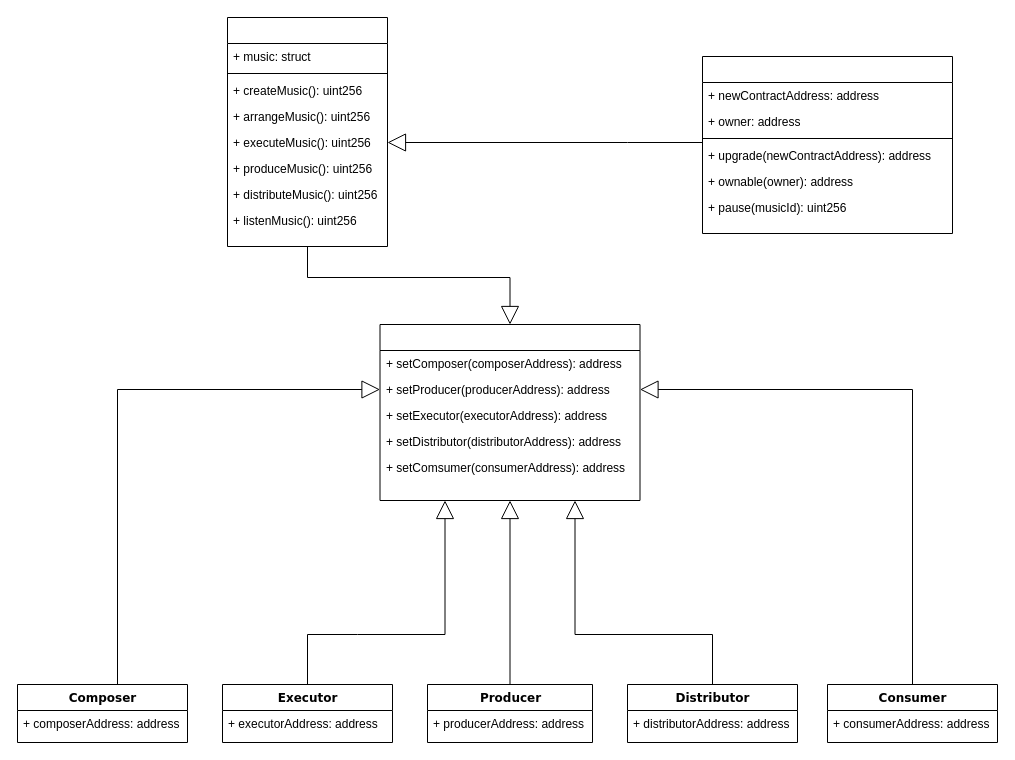
Image size: 1015x760. Some labels were removed from this diagram. The box of each missing label's shape, as (x1, y1, x2, y2) in pixels:
MusicAccessControl: (379, 324, 640, 500)
MusicBase: (226, 16, 388, 246)
MusicCore: (702, 56, 952, 234)
